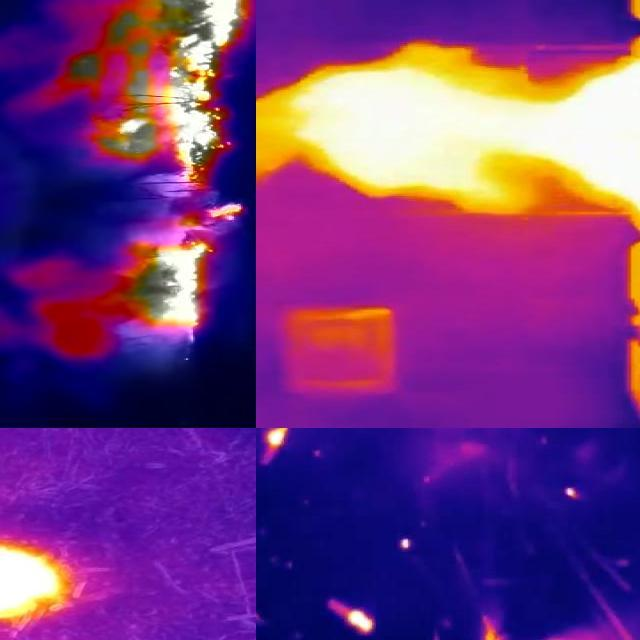fire: (257, 45, 640, 224), (66, 1, 250, 198), (112, 200, 250, 341), (1, 543, 68, 635), (333, 604, 379, 636), (259, 429, 289, 464)
